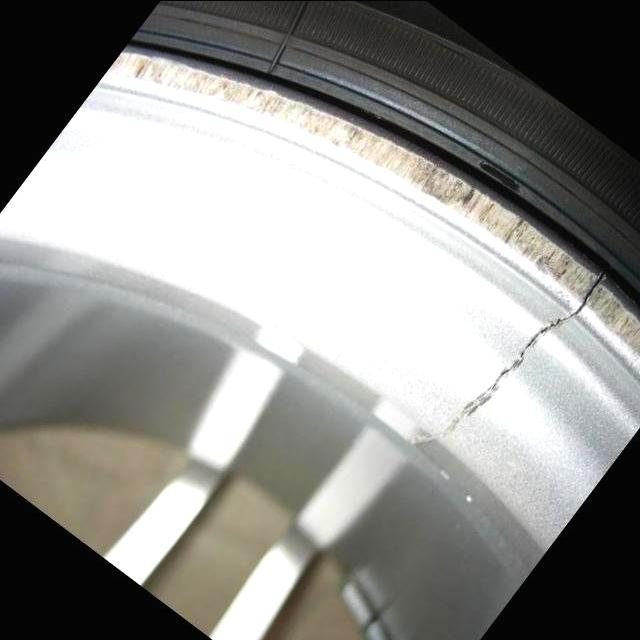defect: (410, 261, 614, 450)
